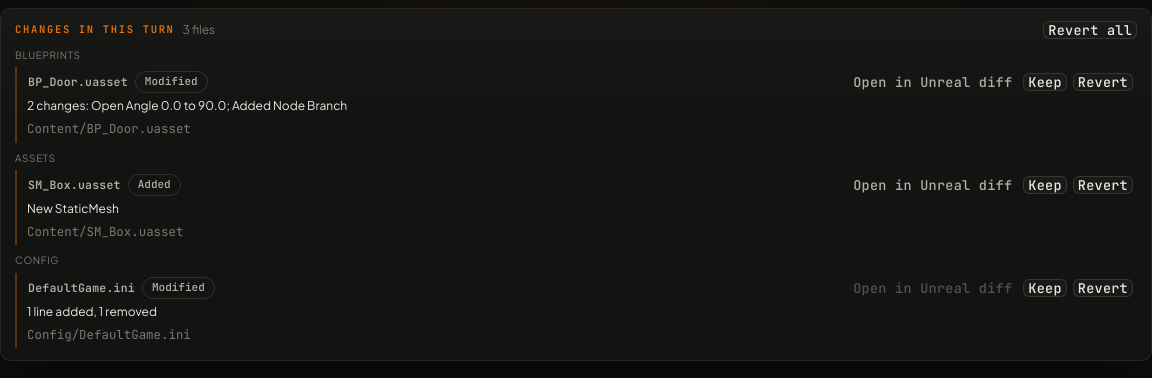
Test: the turn card › keeps an item
Click the 1st button "Keep".
click(1045, 82)  # box top-left (1023, 73), bottom-right (1067, 91)
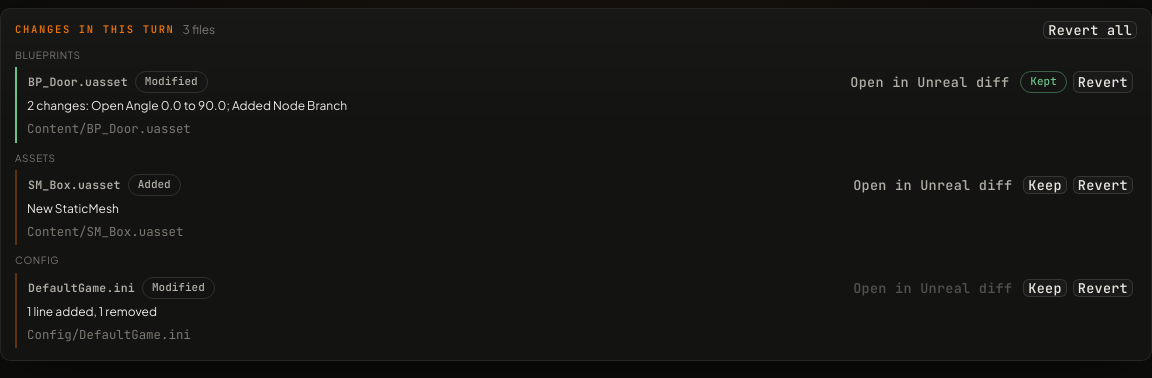
Expected: the text "Kept" is shown, top-left (1020, 71), bottom-right (1067, 93)
